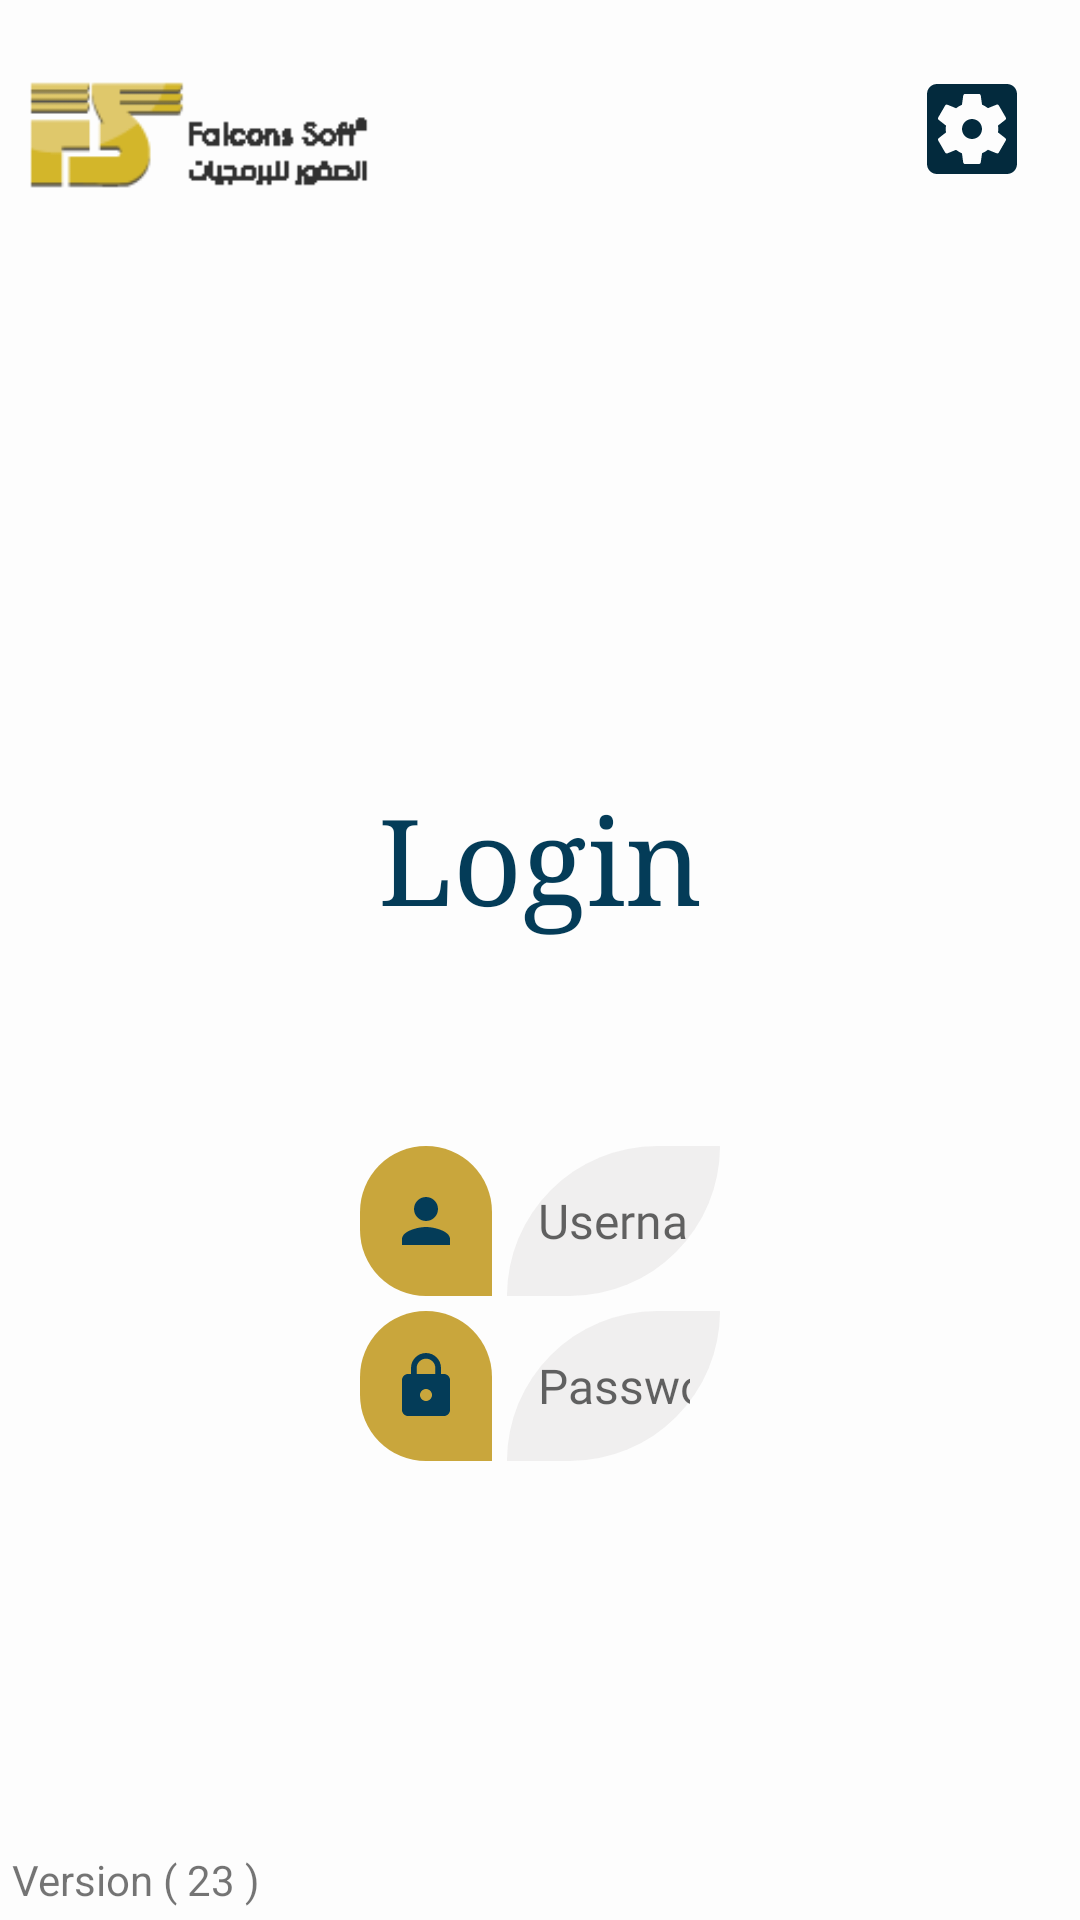

Point at icon controls on the screen. Image size 1080×1920, points as [x,y].
lock: [426,1386]
person: [426,1221]
settings: [972,129]
